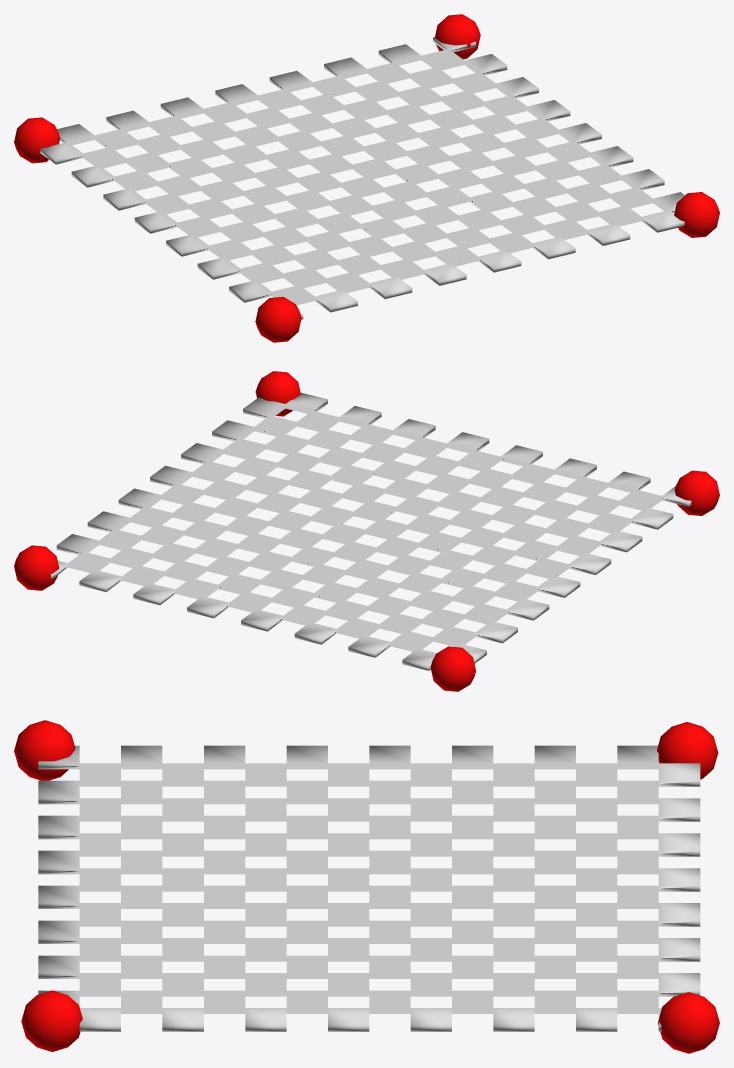
The model's file is item-capture-net.glb.
3 views of the same model, one above another, from view 1: azimuth 30°, elevation 25°; view 2: azimuth 150°, elevation 25°; view 3: azimuth 270°, elevation 25° (orthographic). The views are drawn at different scales.
Bounding box in the file's own units: 1.49 × 0.1321 × 1.5.
